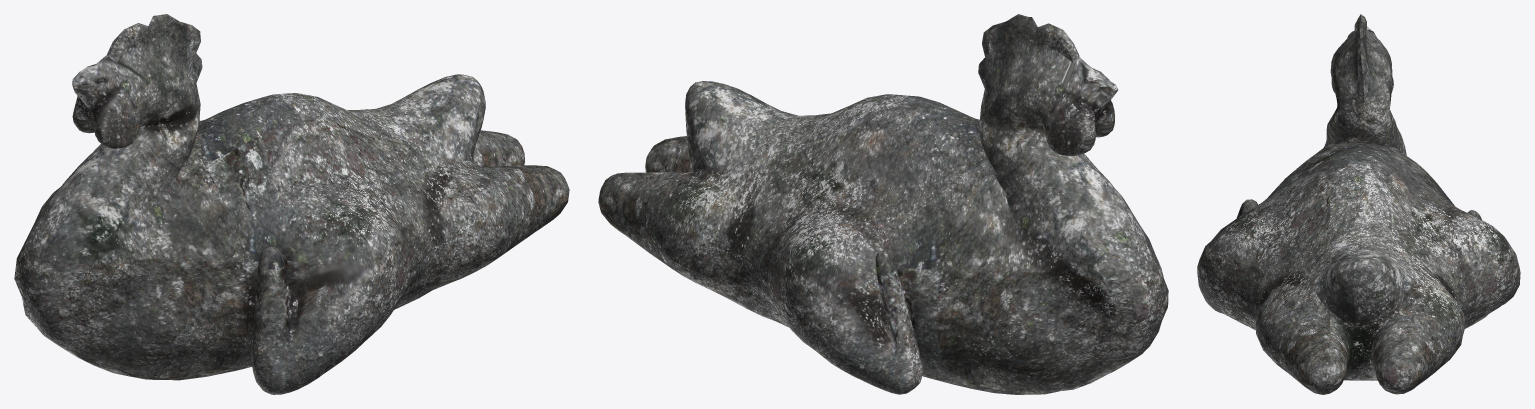
File: chicken.fbx
3 renders of one model, left to right at view 1: azimuth 30°, elevation 25°; view 2: azimuth 150°, elevation 25°; view 3: azimuth 270°, elevation 25°, orthographic. The views are drawn at different scales.
Parts seen in each view (by area): view 1: PM3D_ZSphere_1; view 2: PM3D_ZSphere_1; view 3: PM3D_ZSphere_1.
Boxes of the visible parts, x1,y1,x2,y2 form: PM3D_ZSphere_1: (14,14,569,394); PM3D_ZSphere_1: (598,14,1168,394); PM3D_ZSphere_1: (1197,14,1520,394).
Bounding box in the file's own units: 4.82 × 3.17 × 3.17.
